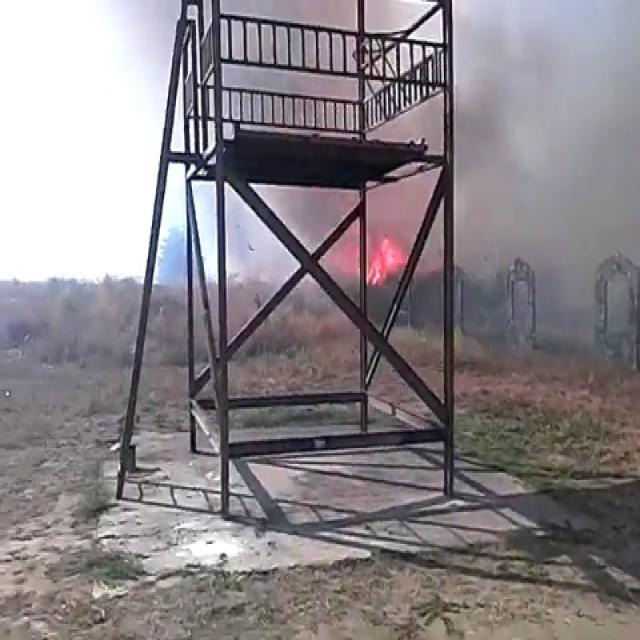Fire: (365, 236, 408, 288)
Smoke: (271, 0, 640, 342)
